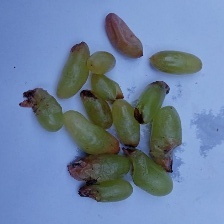grapes: (7, 29, 196, 165)
